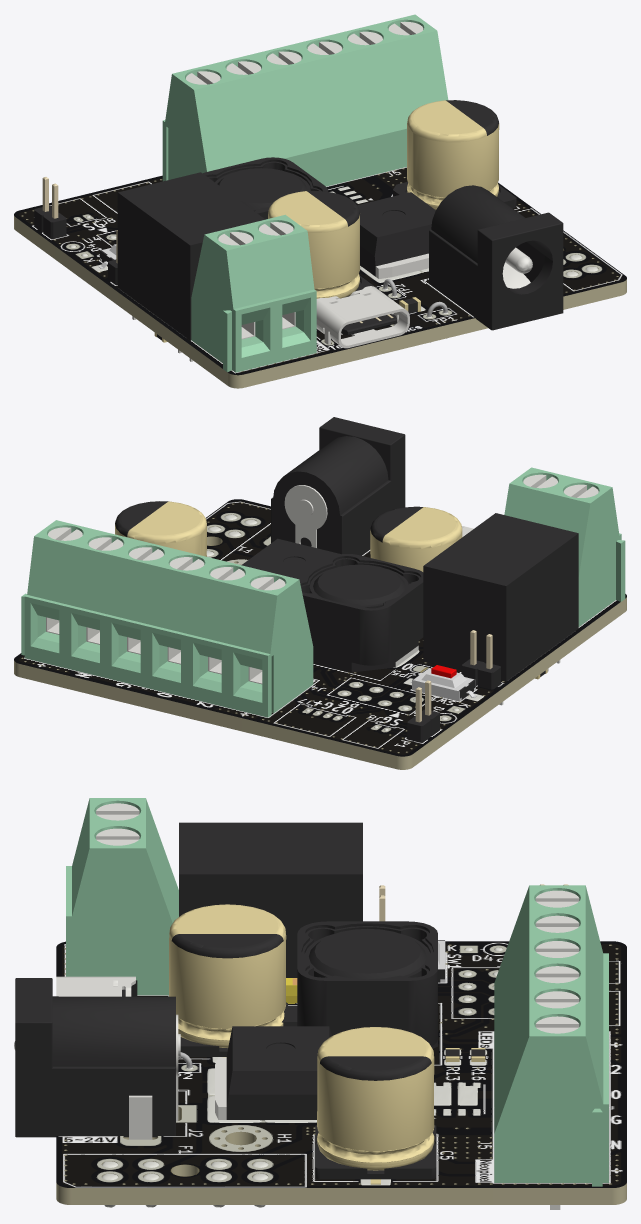
Rendered from 2Lights_v5_0.glb.
3 renders of one model, top to bottom at view 1: azimuth 30°, elevation 25°; view 2: azimuth 150°, elevation 25°; view 3: azimuth 270°, elevation 25°, orthographic. The views are drawn at different scales.
Parts seen in each view (by area): view 1: PCB_2Lights_v5_0, TerminalBlock_Phoenix_MKDS-1,5-3-5.08_1x03_P5.08mm_Horizonta, TerminalBlock_Phoenix_MKDS-1,5-2-5.08_1x02_P5.08mm_Horizonta, TerminalBlock_Phoenix_MKDS-1,5-3-5.08_1x03_P5.08mm_Horizont, BarrelJack_Horizontal, Relay_SPDT_HJR-4102, CP_Elec_10x10, CP_Elec_10x10.001, TO-263-5_TabPin3, USB_C_Receptacle_GCT_USB4125-xx-x-0190_6P_TopMnt_Horizontal, L_Coilcraft_MSS1278T-XXX, PinHeader_1x02_P2.00mm_Vertical; view 2: PCB_2Lights_v5_0, TerminalBlock_Phoenix_MKDS-1,5-3-5.08_1x03_P5.08mm_Horizonta, Relay_SPDT_HJR-4102, TerminalBlock_Phoenix_MKDS-1,5-3-5.08_1x03_P5.08mm_Horizont, BarrelJack_Horizontal, L_Coilcraft_MSS1278T-XXX, TerminalBlock_Phoenix_MKDS-1,5-2-5.08_1x02_P5.08mm_Horizonta, CP_Elec_10x10.001, CP_Elec_10x10, TO-263-5_TabPin3, SW_SPST_CK_RS282G05A3, PinHeader_1x02_P2.00mm_Vertical.001 (+1 smaller); view 3: PCB_2Lights_v5_0, BarrelJack_Horizontal, TerminalBlock_Phoenix_MKDS-1,5-3-5.08_1x03_P5.08mm_Horizont, Relay_SPDT_HJR-4102, TerminalBlock_Phoenix_MKDS-1,5-2-5.08_1x02_P5.08mm_Horizonta, CP_Elec_10x10, L_Coilcraft_MSS1278T-XXX, CP_Elec_10x10.001, TO-263-5_TabPin3, TerminalBlock_Phoenix_MKDS-1,5-3-5.08_1x03_P5.08mm_Horizonta, USB_C_Receptacle_GCT_USB4125-xx-x-0190_6P_TopMnt_Horizontal.
Boxes of the visible parts, <box> form: PCB_2Lights_v5_0: <box>14,167,626,388</box>; TerminalBlock_Phoenix_MKDS-1,5-3-5.08_1x03_P5.08mm_Horizonta: <box>162,44,329,186</box>; TerminalBlock_Phoenix_MKDS-1,5-2-5.08_1x02_P5.08mm_Horizonta: <box>191,214,316,372</box>; TerminalBlock_Phoenix_MKDS-1,5-3-5.08_1x03_P5.08mm_Horizont: <box>294,14,448,185</box>; BarrelJack_Horizontal: <box>429,185,563,330</box>; Relay_SPDT_HJR-4102: <box>117,172,264,361</box>; CP_Elec_10x10: <box>393,100,516,209</box>; CP_Elec_10x10.001: <box>268,191,377,298</box>; TO-263-5_TabPin3: <box>357,192,435,278</box>; USB_C_Receptacle_GCT_USB4125-xx-x-0190_6P_TopMnt_Horizontal: <box>316,286,409,348</box>; L_Coilcraft_MSS1278T-XXX: <box>203,157,328,219</box>; PinHeader_1x02_P2.00mm_Vertical: <box>34,177,66,238</box>; PCB_2Lights_v5_0: <box>14,499,626,769</box>; TerminalBlock_Phoenix_MKDS-1,5-3-5.08_1x03_P5.08mm_Horizonta: <box>146,550,313,717</box>; Relay_SPDT_HJR-4102: <box>423,513,578,705</box>; TerminalBlock_Phoenix_MKDS-1,5-3-5.08_1x03_P5.08mm_Horizont: <box>21,520,177,687</box>; BarrelJack_Horizontal: <box>271,417,405,555</box>; L_Coilcraft_MSS1278T-XXX: <box>299,554,423,672</box>; TerminalBlock_Phoenix_MKDS-1,5-2-5.08_1x02_P5.08mm_Horizonta: <box>504,467,625,626</box>; CP_Elec_10x10.001: <box>370,506,462,571</box>; CP_Elec_10x10: <box>115,501,206,556</box>; TO-263-5_TabPin3: <box>241,538,340,579</box>; SW_SPST_CK_RS282G05A3: <box>410,665,476,701</box>; PinHeader_1x02_P2.00mm_Vertical.001: <box>461,630,500,689</box>; PCB_2Lights_v5_0: <box>56,941,626,1204</box>; BarrelJack_Horizontal: <box>14,978,180,1139</box>; TerminalBlock_Phoenix_MKDS-1,5-3-5.08_1x03_P5.08mm_Horizont: <box>494,960,608,1209</box>; Relay_SPDT_HJR-4102: <box>179,822,362,977</box>; TerminalBlock_Phoenix_MKDS-1,5-2-5.08_1x02_P5.08mm_Horizonta: <box>66,798,178,995</box>; CP_Elec_10x10: <box>315,1027,436,1184</box>; L_Coilcraft_MSS1278T-XXX: <box>297,921,437,1048</box>; CP_Elec_10x10.001: <box>169,904,287,1057</box>; TO-263-5_TabPin3: <box>215,1026,331,1120</box>; TerminalBlock_Phoenix_MKDS-1,5-3-5.08_1x03_P5.08mm_Horizonta: <box>494,885,608,1057</box>; USB_C_Receptacle_GCT_USB4125-xx-x-0190_6P_TopMnt_Horizontal: <box>56,976,137,996</box>.
Size of the model in its own units: 0.0498 by 0.0177 by 0.0523.
34 materials, 2 textured.
